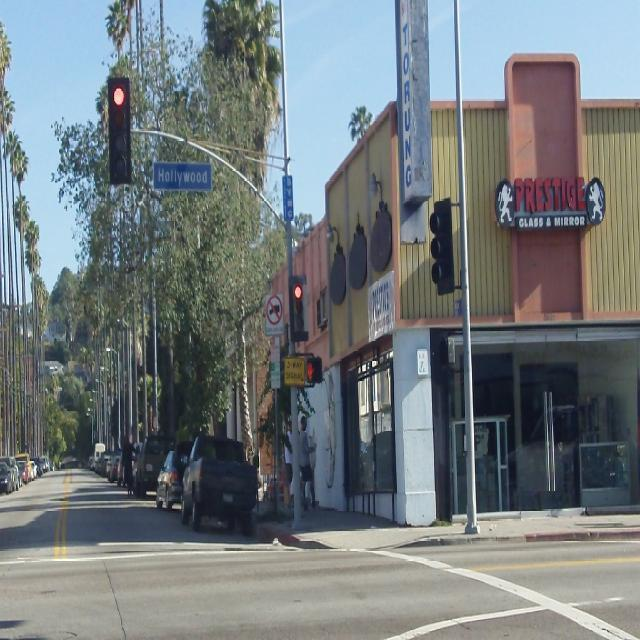traffic light: (108, 76, 130, 184)
